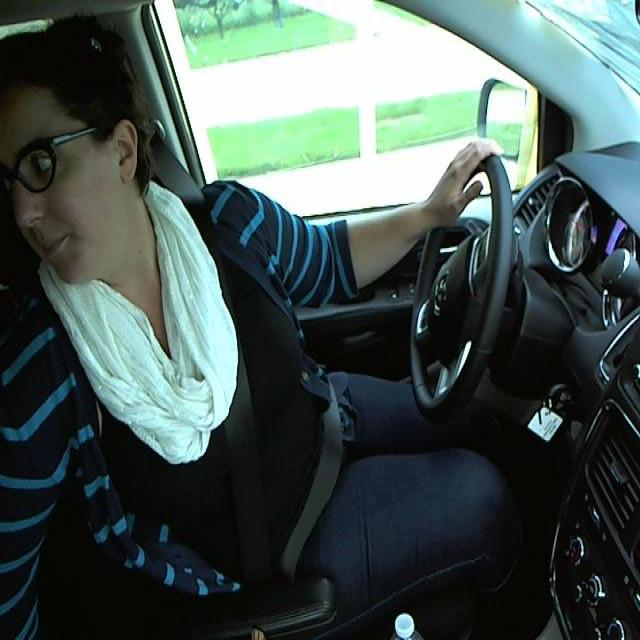seatbelt: (213, 313, 272, 575)
